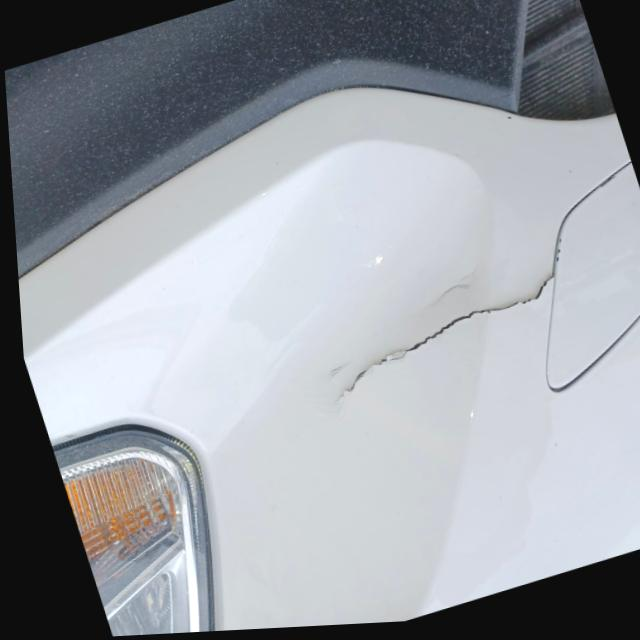Paint-Crack: (328, 267, 557, 418)
